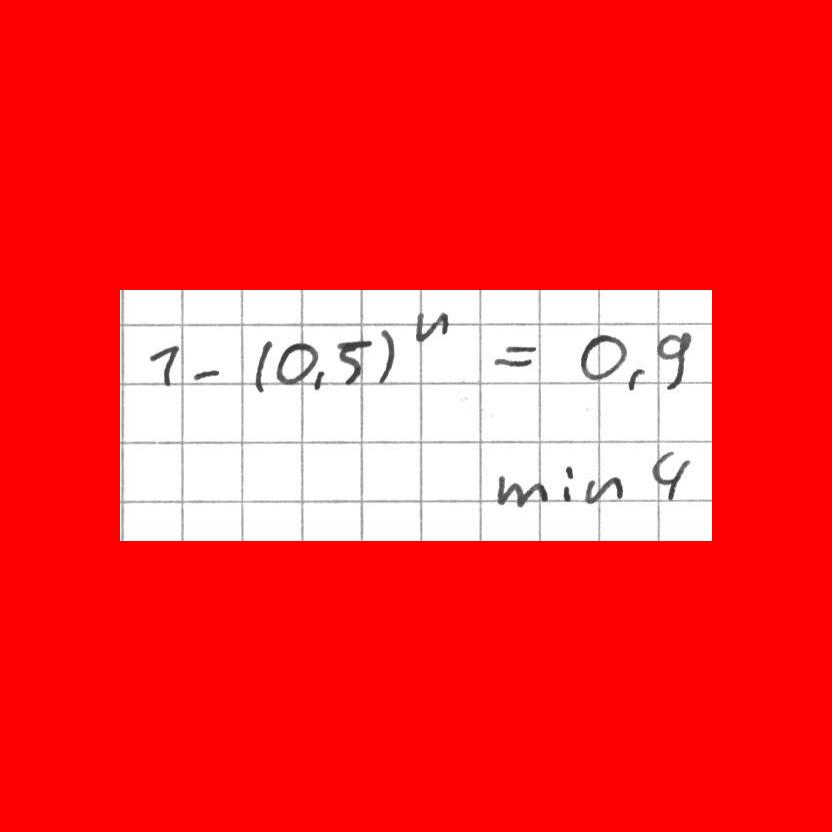Char: (573, 331, 626, 385), (654, 327, 696, 391), (331, 335, 375, 390), (649, 448, 692, 503), (491, 472, 549, 512), (276, 338, 318, 382), (147, 342, 185, 388), (488, 341, 543, 372), (579, 472, 626, 506), (249, 336, 275, 395), (377, 324, 402, 383), (412, 309, 457, 339), (558, 462, 577, 502), (191, 362, 223, 383), (626, 363, 647, 394), (310, 363, 328, 392)
